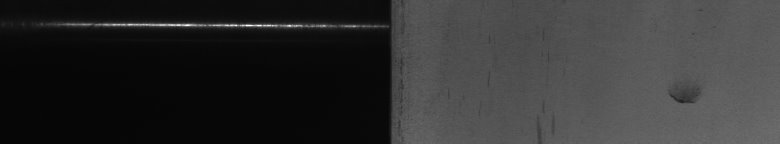fi: (668, 88, 701, 112)
